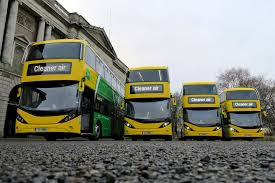bus: (14, 38, 126, 142), (122, 62, 176, 143), (177, 80, 223, 140), (217, 87, 265, 140)
